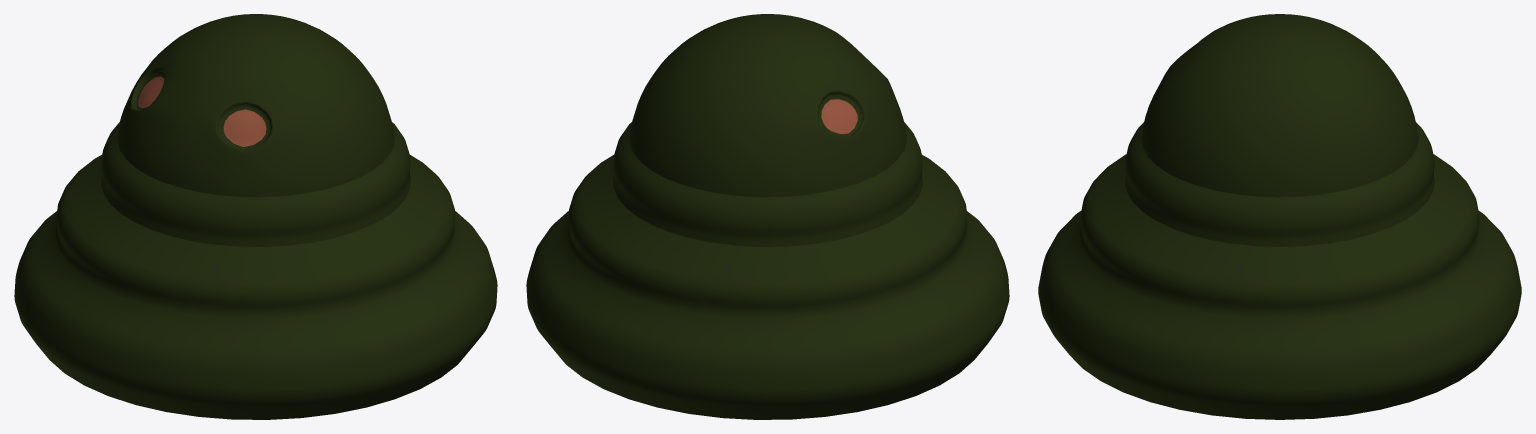
The model's file is Enemy.fbx.
3 views of the same model, side by side, from view 1: azimuth 30°, elevation 25°; view 2: azimuth 150°, elevation 25°; view 3: azimuth 270°, elevation 25° (orthographic).
Parts seen in each view (by area): view 1: Enemy; view 2: Enemy; view 3: Enemy.
Boxes of the visible parts, <box> form: Enemy: <box>14,14,497,419</box>; Enemy: <box>526,14,1009,419</box>; Enemy: <box>1038,14,1521,419</box>.
Bounding box in the file's own units: 3.4 × 2.33 × 3.4.
